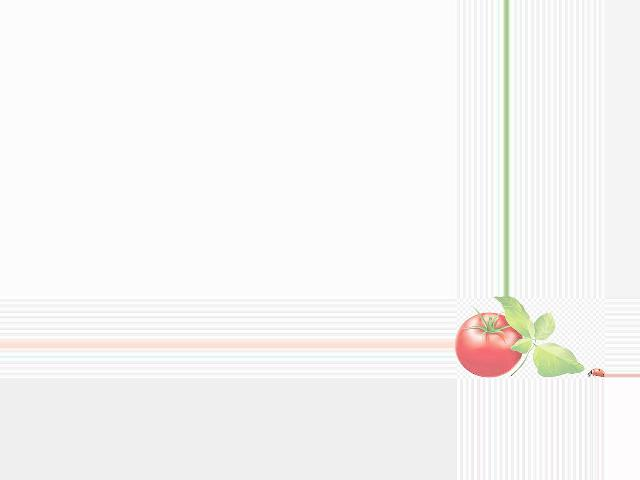tomato: (455, 312, 523, 377)
